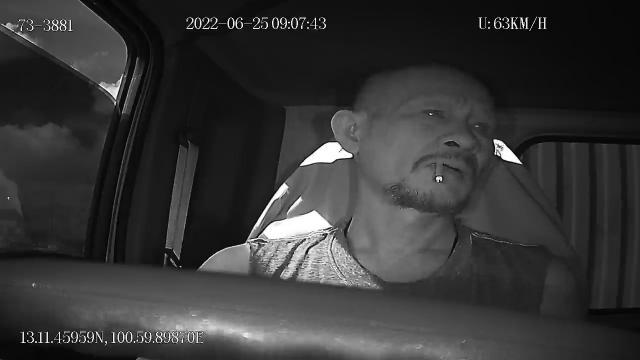SafeDriving: (410, 100, 450, 127)
Smoking: (434, 160, 444, 182)
